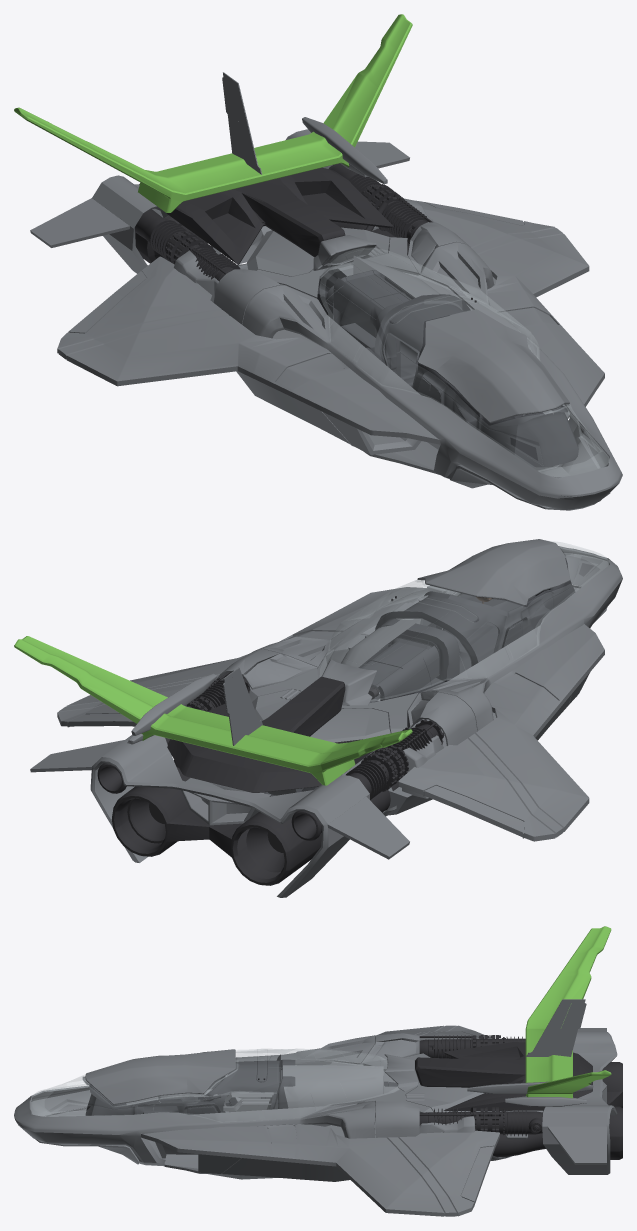
File: Venom.glb
3 views of the same model, one above another, from view 1: azimuth 30°, elevation 25°; view 2: azimuth 150°, elevation 25°; view 3: azimuth 270°, elevation 25° (orthographic). The views are drawn at different scales.
Visible parts, largest first — view 1: pCube55, polySurface2, pCylinder13, pCube49, pCube43; view 2: pCube55, pCylinder13, polySurface2, pCube49, pCube43; view 3: pCube55, polySurface2, pCylinder13, pCube43, pCube49.
Boxes of the visible parts, <box> form: pCube55: <box>30,72,622,510</box>; polySurface2: <box>320,248,609,476</box>; pCylinder13: <box>135,163,476,302</box>; pCube49: <box>317,268,578,470</box>; pCube43: <box>14,14,412,212</box>; pCube55: <box>30,539,622,897</box>; pCylinder13: <box>97,596,444,885</box>; polySurface2: <box>320,541,609,701</box>; pCube49: <box>263,558,575,796</box>; pCube43: <box>14,636,412,785</box>; pCube55: <box>14,999,617,1216</box>; polySurface2: <box>30,1048,398,1122</box>; pCylinder13: <box>258,1035,622,1159</box>; pCube43: <box>525,926,611,1098</box>; pCube49: <box>85,1054,417,1115</box>.
Size of the model in its own units: 7.03 by 2.67 by 9.67.
